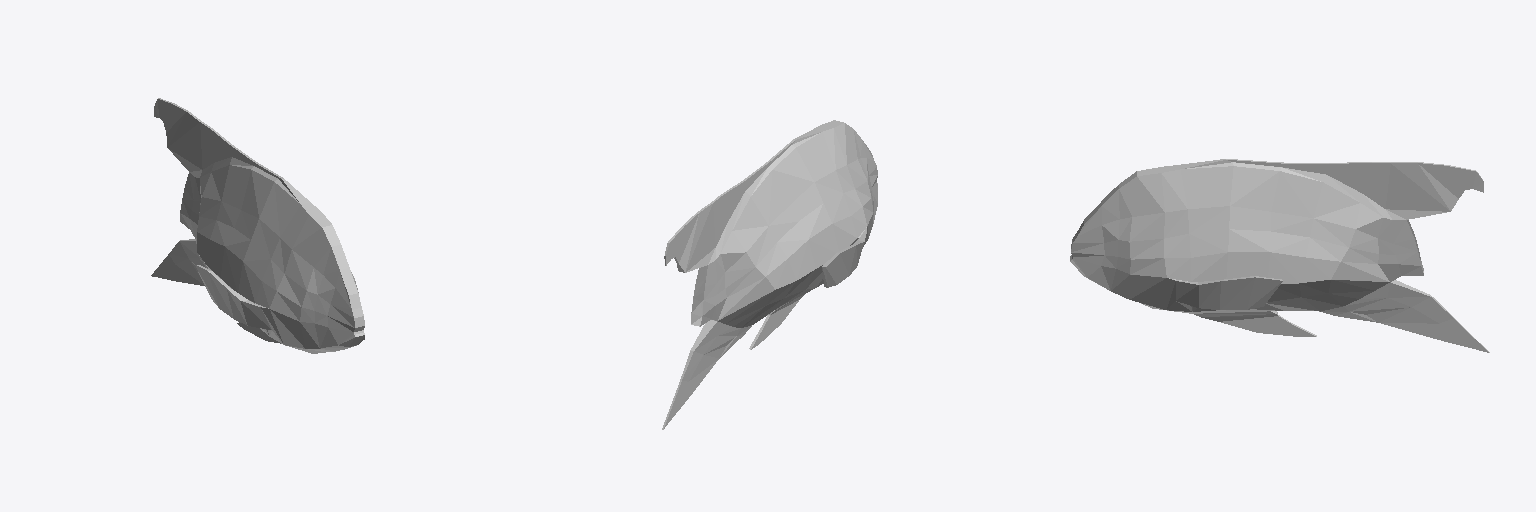
The model's file is PezCu12.obj.
3 views of the same model, side by side, from view 1: azimuth 30°, elevation 25°; view 2: azimuth 150°, elevation 25°; view 3: azimuth 270°, elevation 25° (orthographic).
Visible parts, largest first — view 1: polySurface1 TropicalFish03:TropicalFish03; view 2: polySurface1 TropicalFish03:TropicalFish03; view 3: polySurface1 TropicalFish03:TropicalFish03.
Part boxes in pixels (bbox=[...]): polySurface1 TropicalFish03:TropicalFish03: bbox=[151, 98, 364, 353]; polySurface1 TropicalFish03:TropicalFish03: bbox=[662, 120, 877, 429]; polySurface1 TropicalFish03:TropicalFish03: bbox=[1070, 159, 1489, 352].
Size of the model in its own units: 3.11 by 4.79 by 9.41.